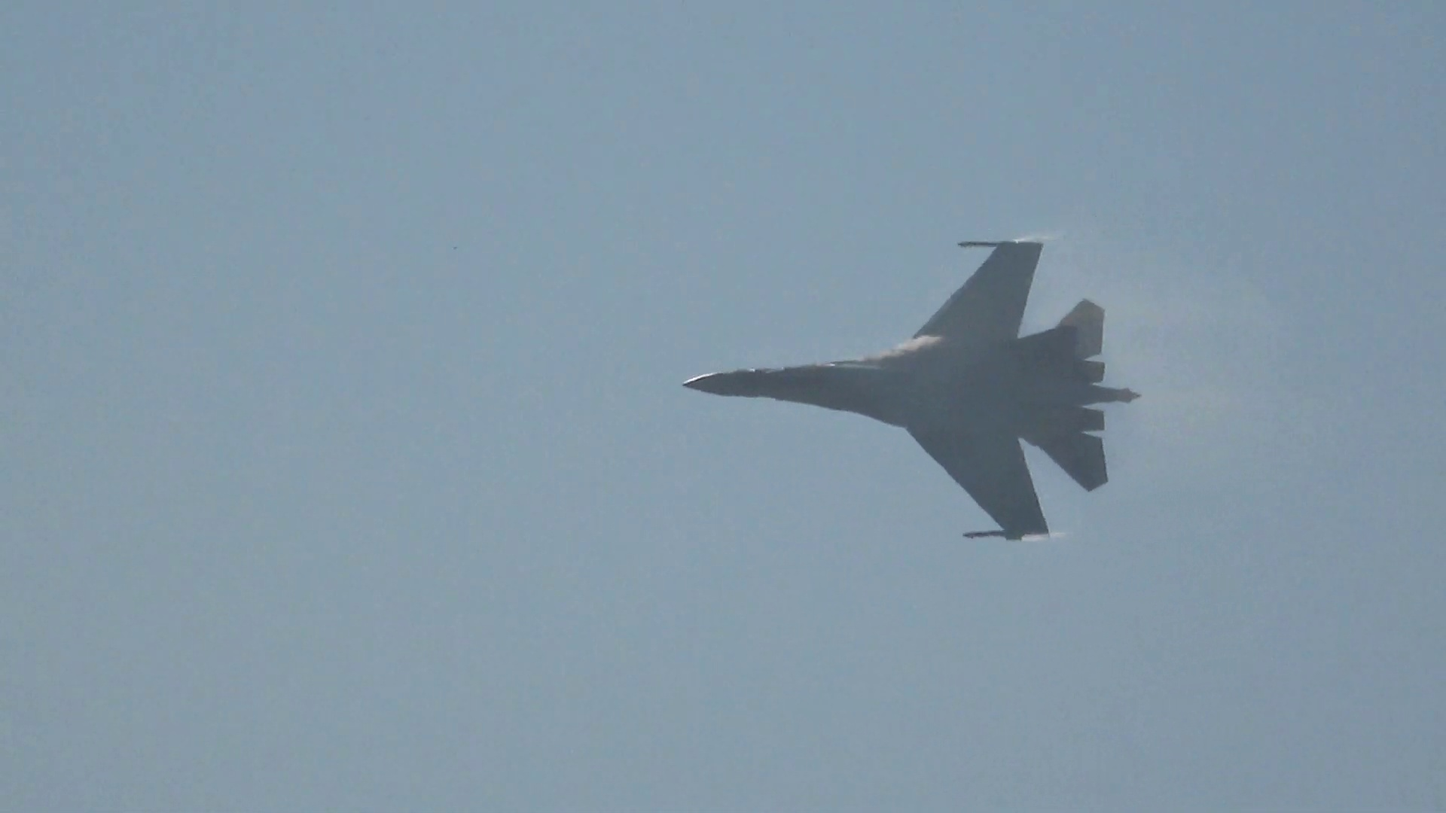Su35: (683, 241, 1141, 540)
